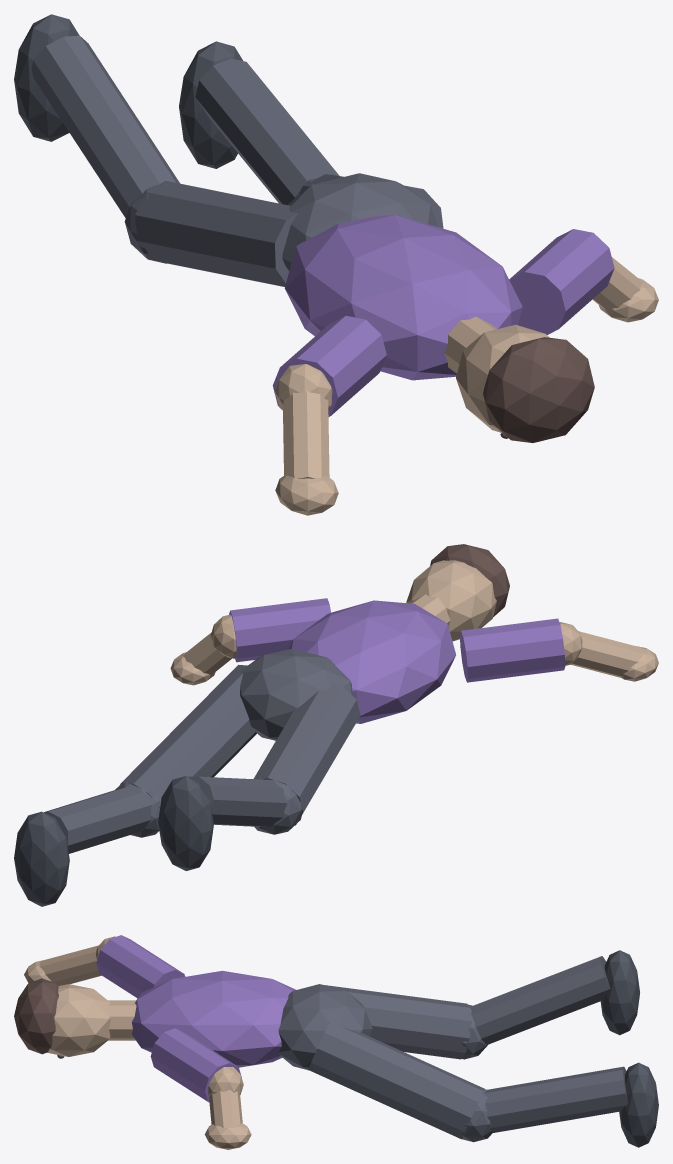
3 views of the same model, one above another, from view 1: azimuth 30°, elevation 25°; view 2: azimuth 150°, elevation 25°; view 3: azimuth 270°, elevation 25° (orthographic). The views are drawn at different scales.
Visible parts, largest first — view 1: world; view 2: world; view 3: world.
Part boxes in pixels (<box>): world: <box>14,14,658,515</box>; world: <box>14,544,658,906</box>; world: <box>14,935,658,1149</box>.
Bounding box in the file's own units: 1.25 × 0.4905 × 2.06.
